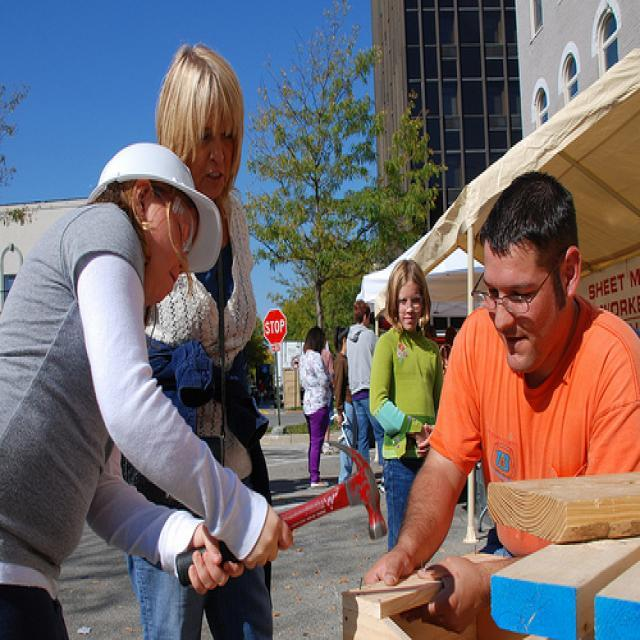hammer: (152, 434, 394, 580)
